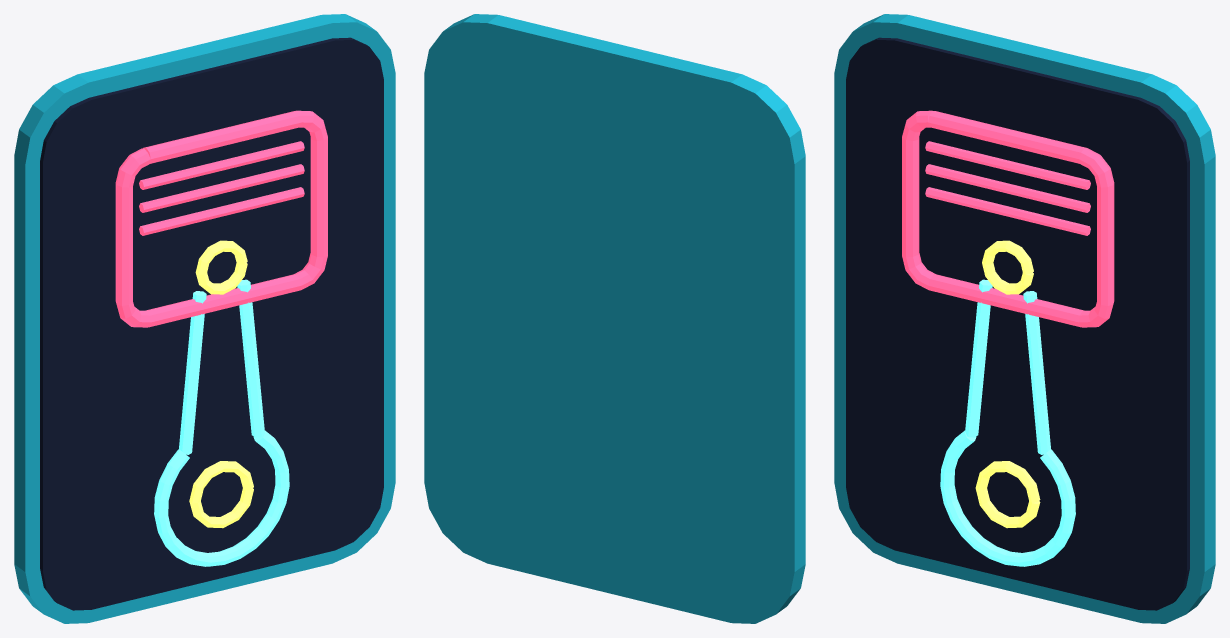
File: Sign_Piston.fbx
3 views of the same model, side by side, from view 1: azimuth 30°, elevation 25°; view 2: azimuth 150°, elevation 25°; view 3: azimuth 330°, elevation 25° (orthographic).
Parts seen in each view (by area): view 1: Sign_Piston, Neon_Red, Neon_Cyan, Neon_Yellow; view 2: Sign_Piston; view 3: Sign_Piston, Neon_Red, Neon_Cyan, Neon_Yellow.
Boxes of the visible parts, x1,y1,x2,y2 form: Sign_Piston: (14, 14, 395, 623); Neon_Red: (115, 110, 327, 327); Neon_Cyan: (154, 279, 289, 566); Neon_Yellow: (189, 240, 253, 528); Sign_Piston: (424, 14, 805, 623); Sign_Piston: (834, 14, 1215, 623); Neon_Red: (902, 110, 1114, 327); Neon_Cyan: (940, 279, 1075, 566); Neon_Yellow: (975, 240, 1040, 528).
Size of the model in its own units: 7.6 by 10.6 by 0.96.
Materials: 4 (1 with a texture image).
